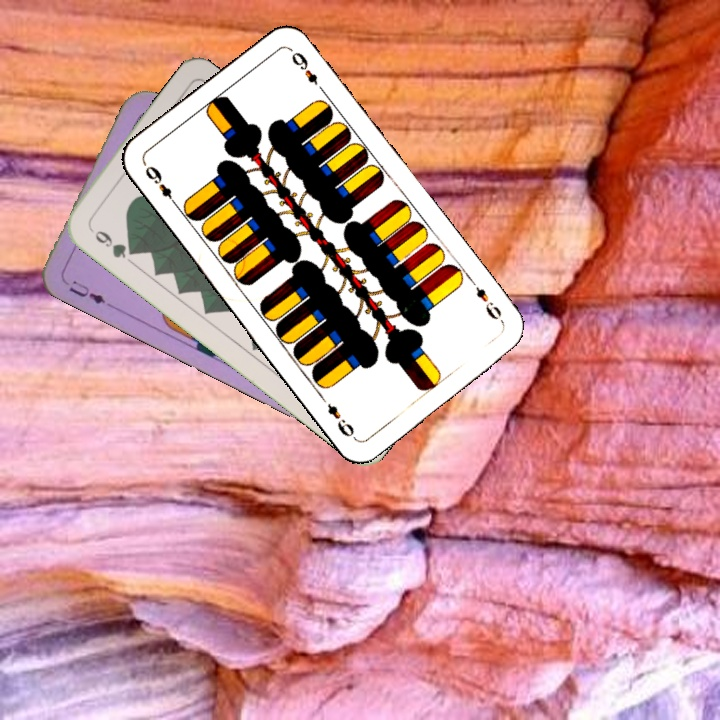E9: (140, 161, 181, 210), (466, 275, 505, 323)
EU: (65, 276, 115, 310)
G9: (90, 226, 139, 262)
